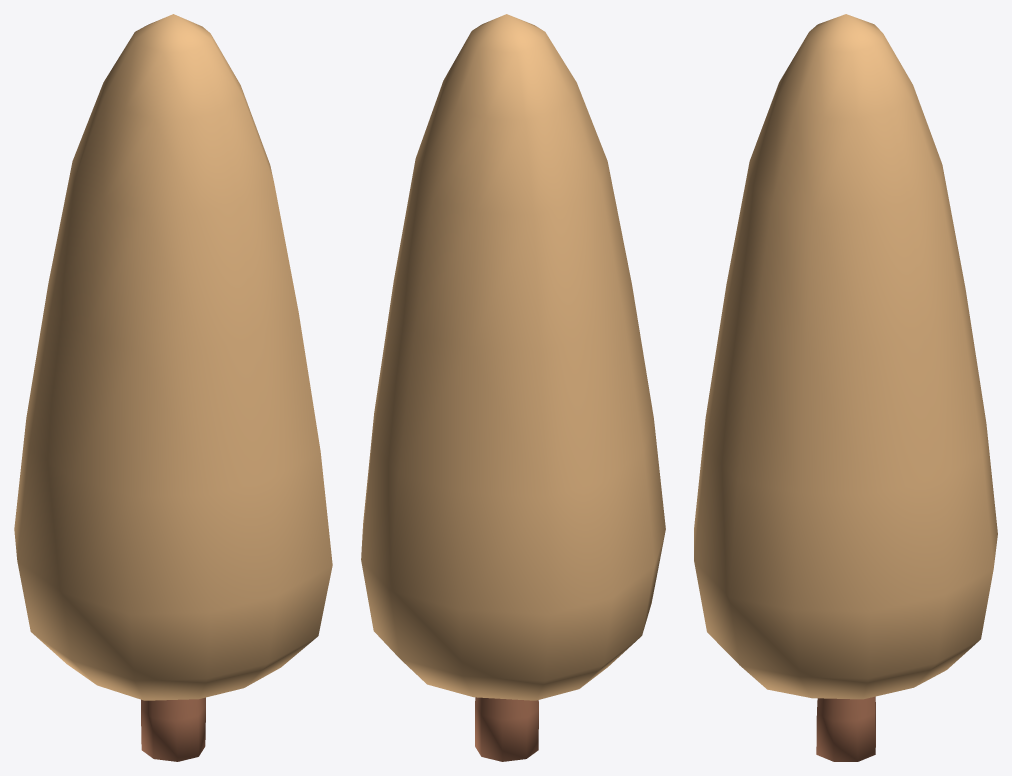
The model's file is TreeSimple_02_LOD2.gltf.
The picture shows the model from 3 angles, left to right: view 1: azimuth 30°, elevation 25°; view 2: azimuth 150°, elevation 25°; view 3: azimuth 270°, elevation 25°; orthographic projection.
Parts seen in each view (by area): view 1: TreeSimple_02_LOD2_Cylinder.593; view 2: TreeSimple_02_LOD2_Cylinder.593; view 3: TreeSimple_02_LOD2_Cylinder.593.
Part boxes in pixels (x1,y1,x2,y2): TreeSimple_02_LOD2_Cylinder.593: (14, 14, 332, 761); TreeSimple_02_LOD2_Cylinder.593: (361, 14, 665, 761); TreeSimple_02_LOD2_Cylinder.593: (694, 14, 997, 761).
Bounding box in the file's own units: 4.01 × 10.74 × 4.01.
1 material, 1 textured.
